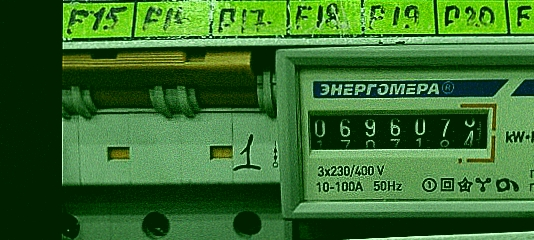0: (412, 114, 427, 136), (312, 117, 326, 138)
4: (462, 127, 475, 148)
6: (337, 116, 351, 137), (387, 116, 401, 136)
7: (437, 116, 452, 137)
9: (362, 116, 375, 137)
screen: (295, 99, 501, 159)
